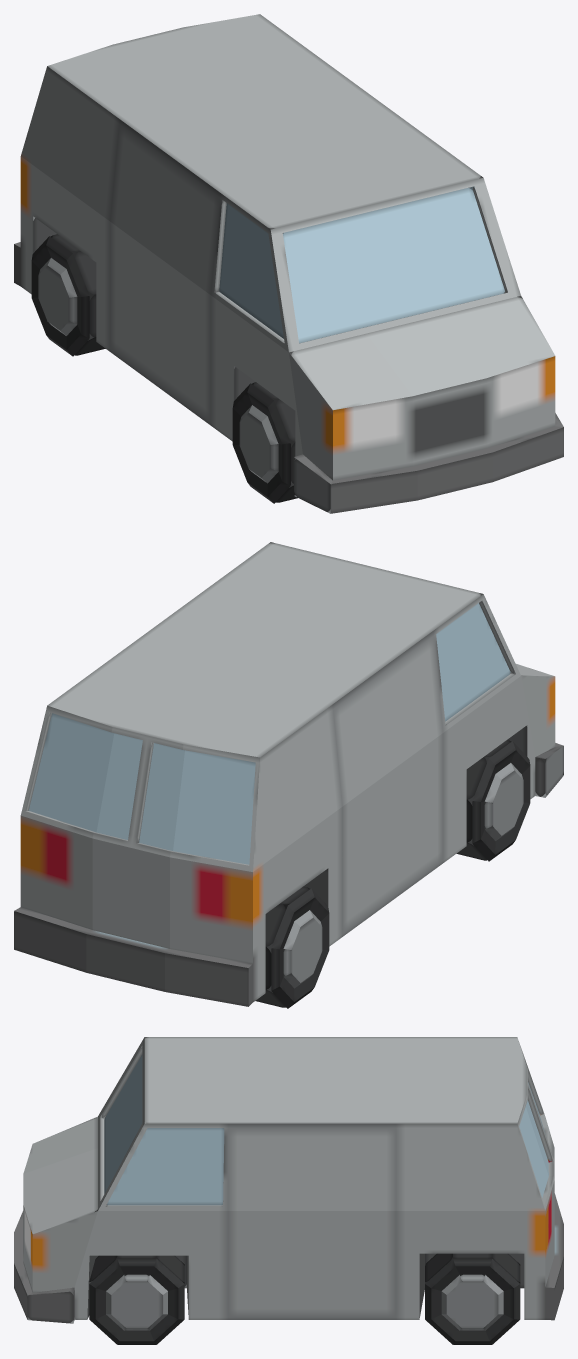
The model's file is Car 5.fbx.
3 views of the same model, one above another, from view 1: azimuth 30°, elevation 25°; view 2: azimuth 150°, elevation 25°; view 3: azimuth 270°, elevation 25° (orthographic). The views are drawn at different scales.
Parts seen in each view (by area): view 1: cuboid, cylinder_3, cylinder_2; view 2: cuboid, cylinder_3, cylinder_2; view 3: cuboid, cylinder_1, cylinder.
Part boxes in pixels (x1,y1,x2,y2): cuboid: (14, 14, 563, 513); cylinder_3: (31, 234, 105, 356); cylinder_2: (232, 382, 297, 503); cuboid: (14, 542, 563, 1006); cylinder_3: (255, 886, 329, 1008); cylinder_2: (456, 739, 530, 861); cuboid: (14, 1037, 563, 1323); cylinder_1: (425, 1253, 520, 1344); cylinder: (89, 1255, 184, 1344).
Bounding box in the file's own units: 163 × 160 × 369.
Materials: 1 (1 with a texture image).
